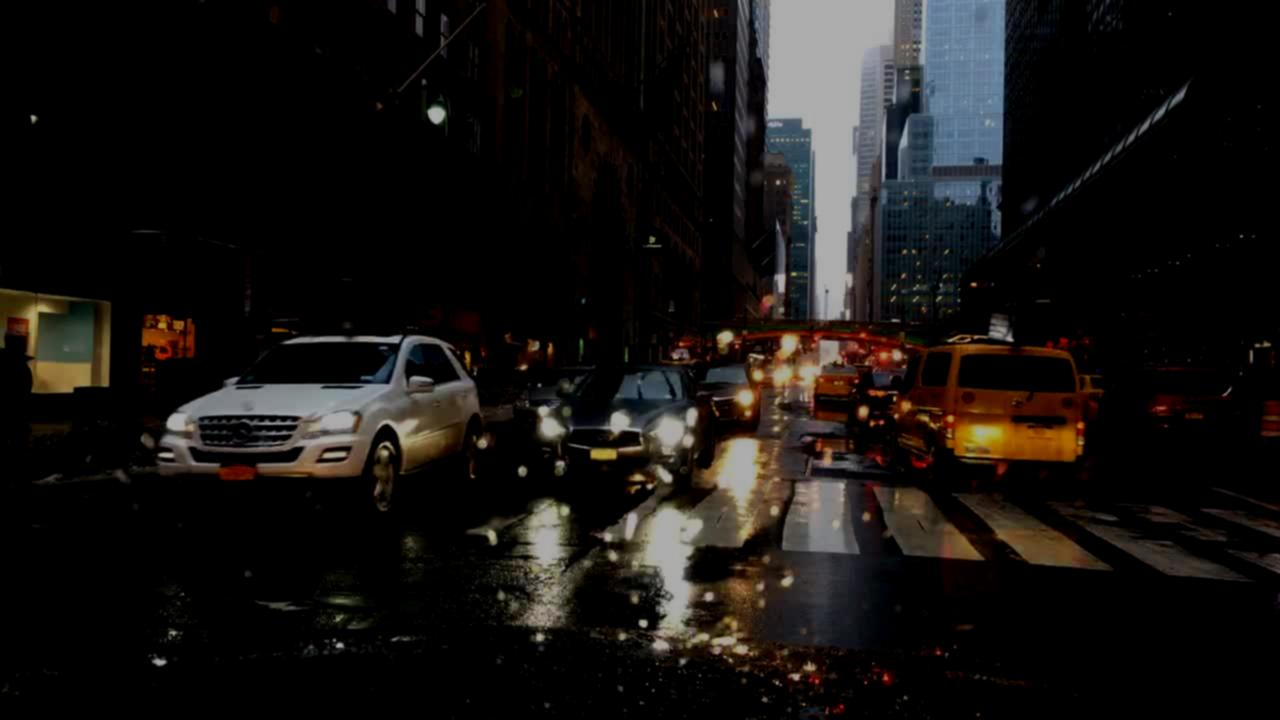Infiniti: (597, 431, 611, 445)
Mercedes: (230, 419, 256, 446)
Nissan: (1004, 391, 1028, 416)
